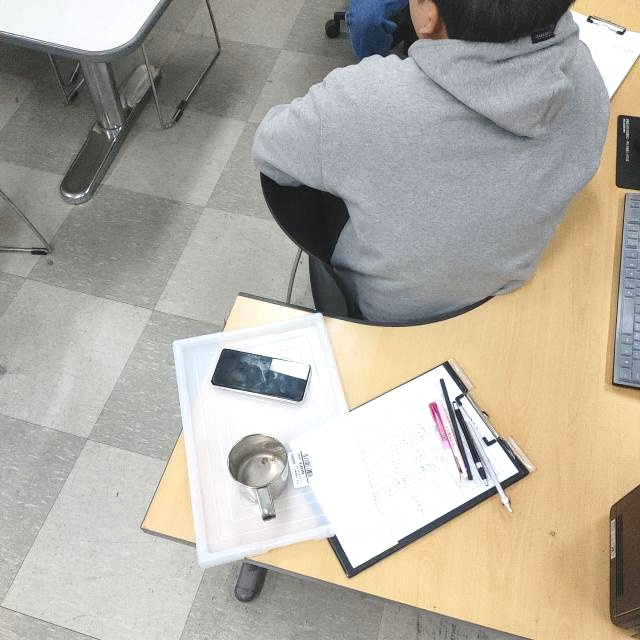cup: (225, 430, 292, 522)
phone: (210, 347, 314, 403)
